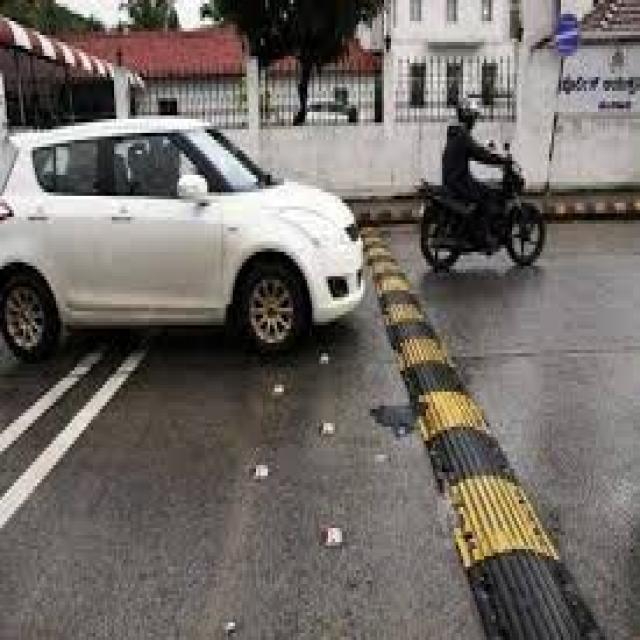speedbreaker: (358, 218, 601, 640)
